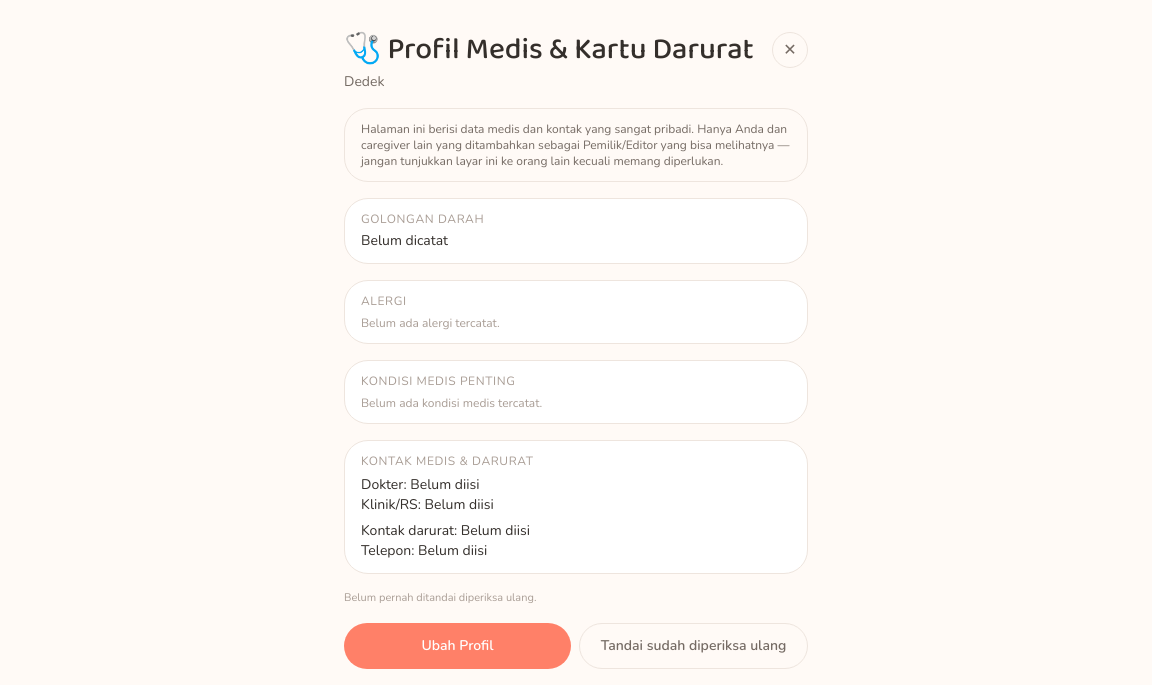
it: MedicalProfileScreen — Owner/Editor workflow › shows a save error without a raw stack trace and keeps the form open
Click the button "Ubah Profil".
click(458, 646)  # box [344,622,571,668]
(page scrolled)
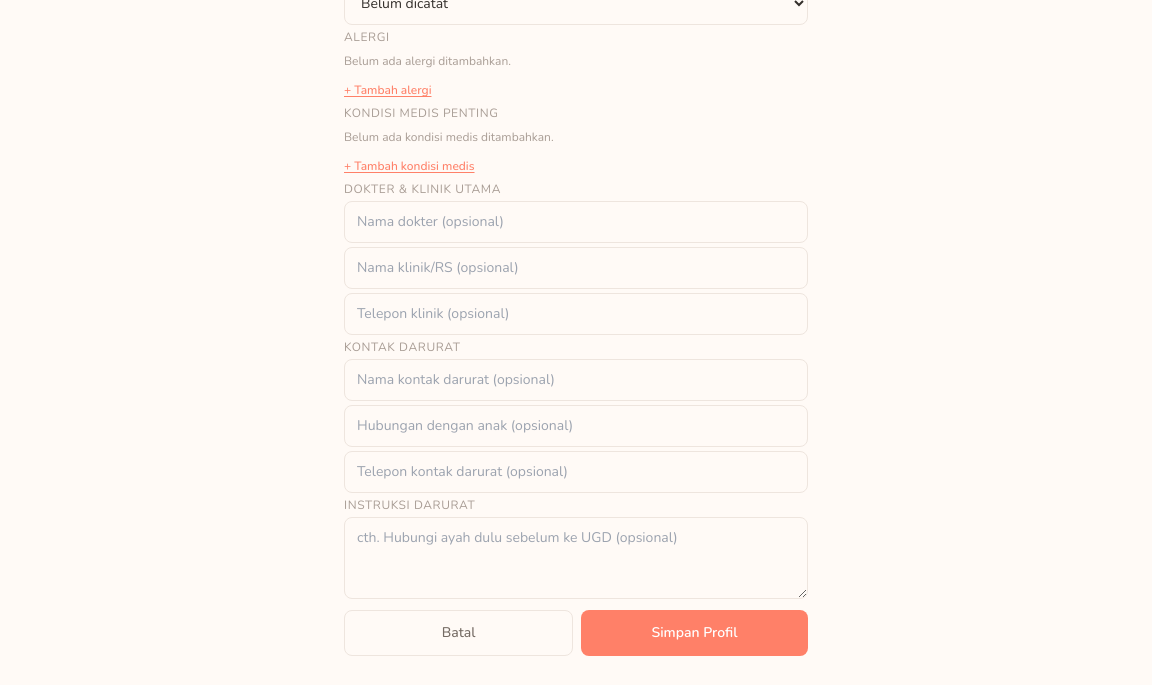
Click the button "Simpan Profil".
click(694, 633)  # box [581,610,808,656]
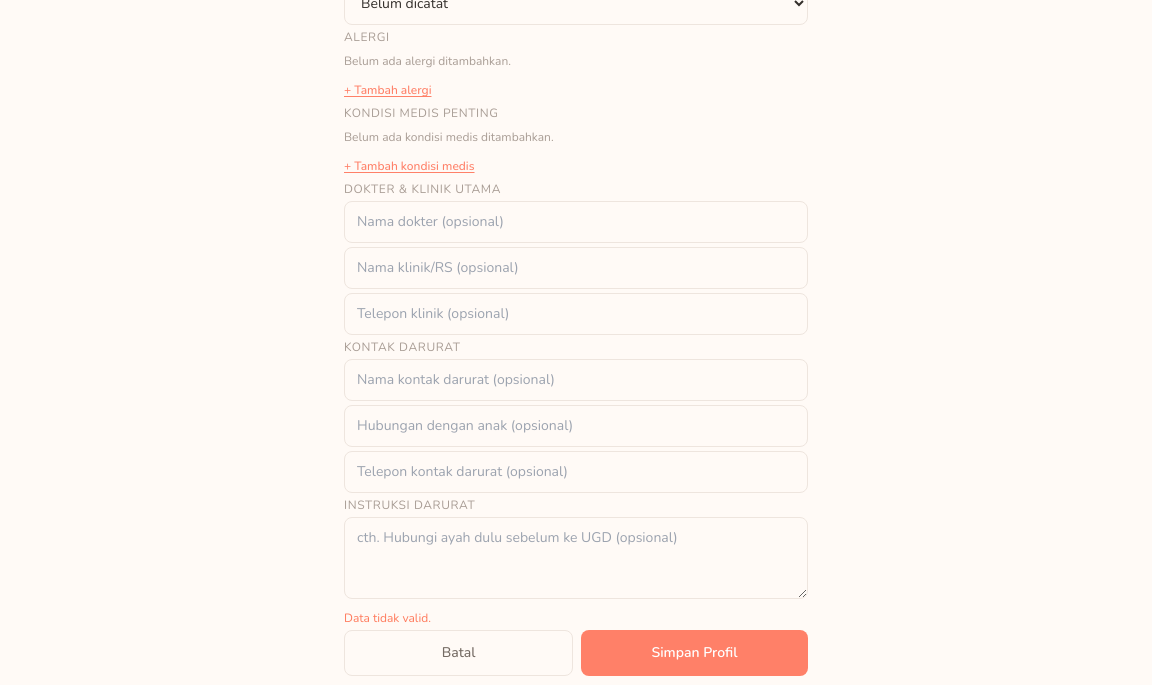
Expected: the button "Simpan Profil" is shown, [581,630,808,676]
Expected: the text "Data tidak valid." is shown, [344,610,431,626]
